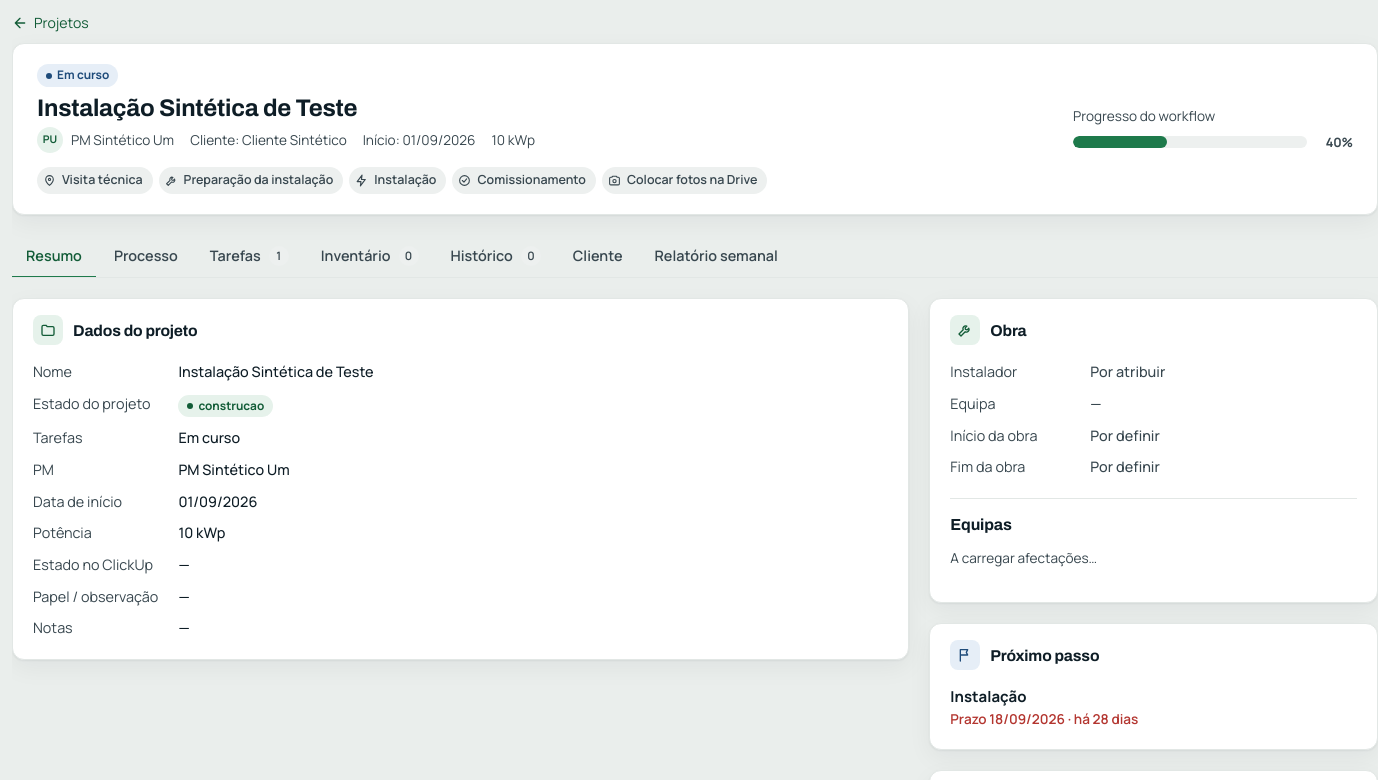
Scenario: Detalhe do projeto — material no local › mostra um estado vazio quando nada foi entregue
Expected: the heading "Instalação Sintética de Teste" is shown, [37, 95, 357, 121]
Click the tab "Inventário 0": (370, 257) [307, 235, 433, 278]
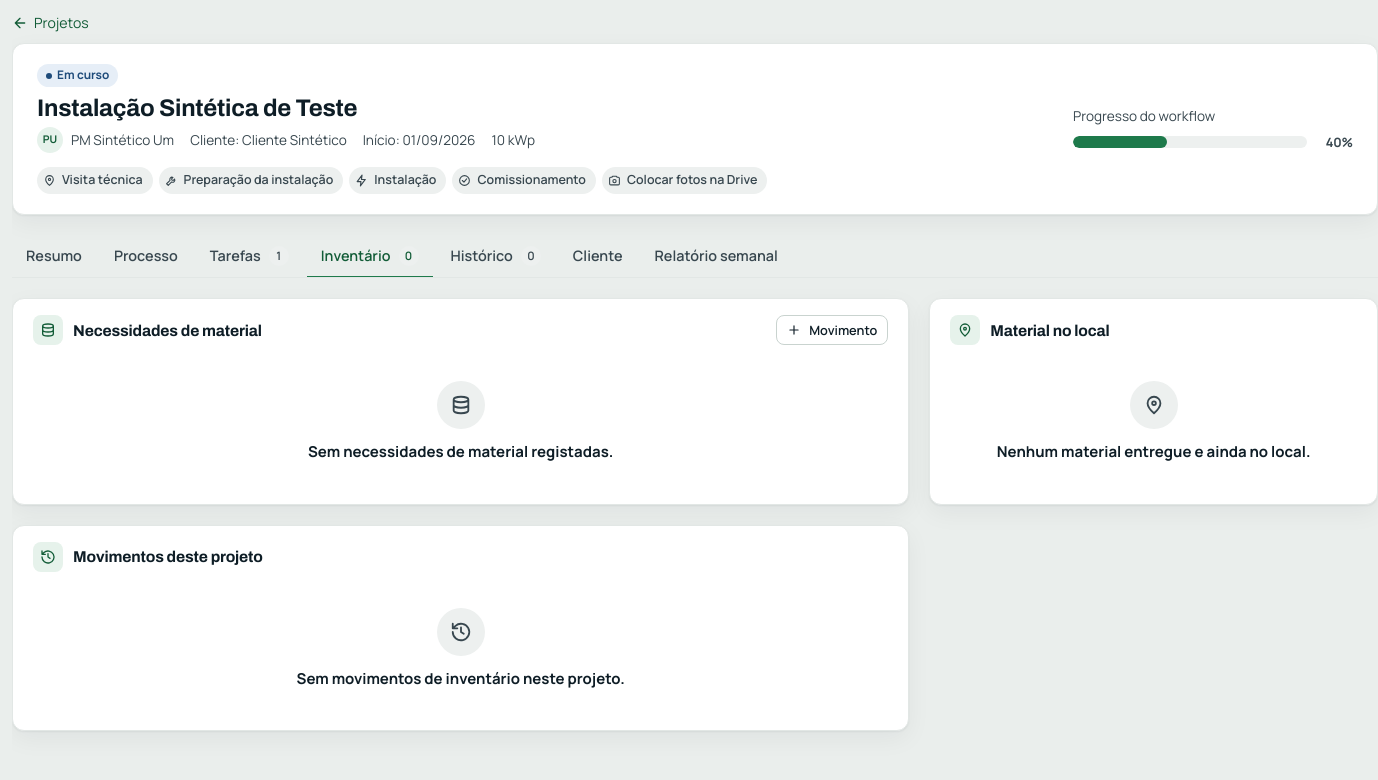
Now the text "Nenhum material entregue e ainda no local." is shown, box [997, 441, 1310, 464]
